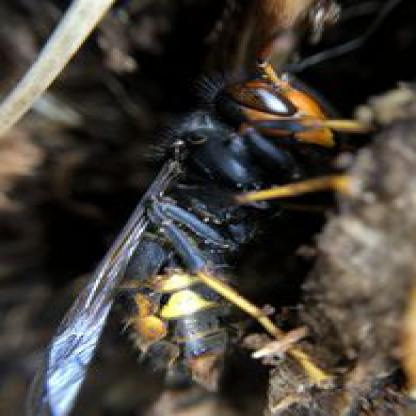Asian Hornet: (34, 52, 358, 415)
